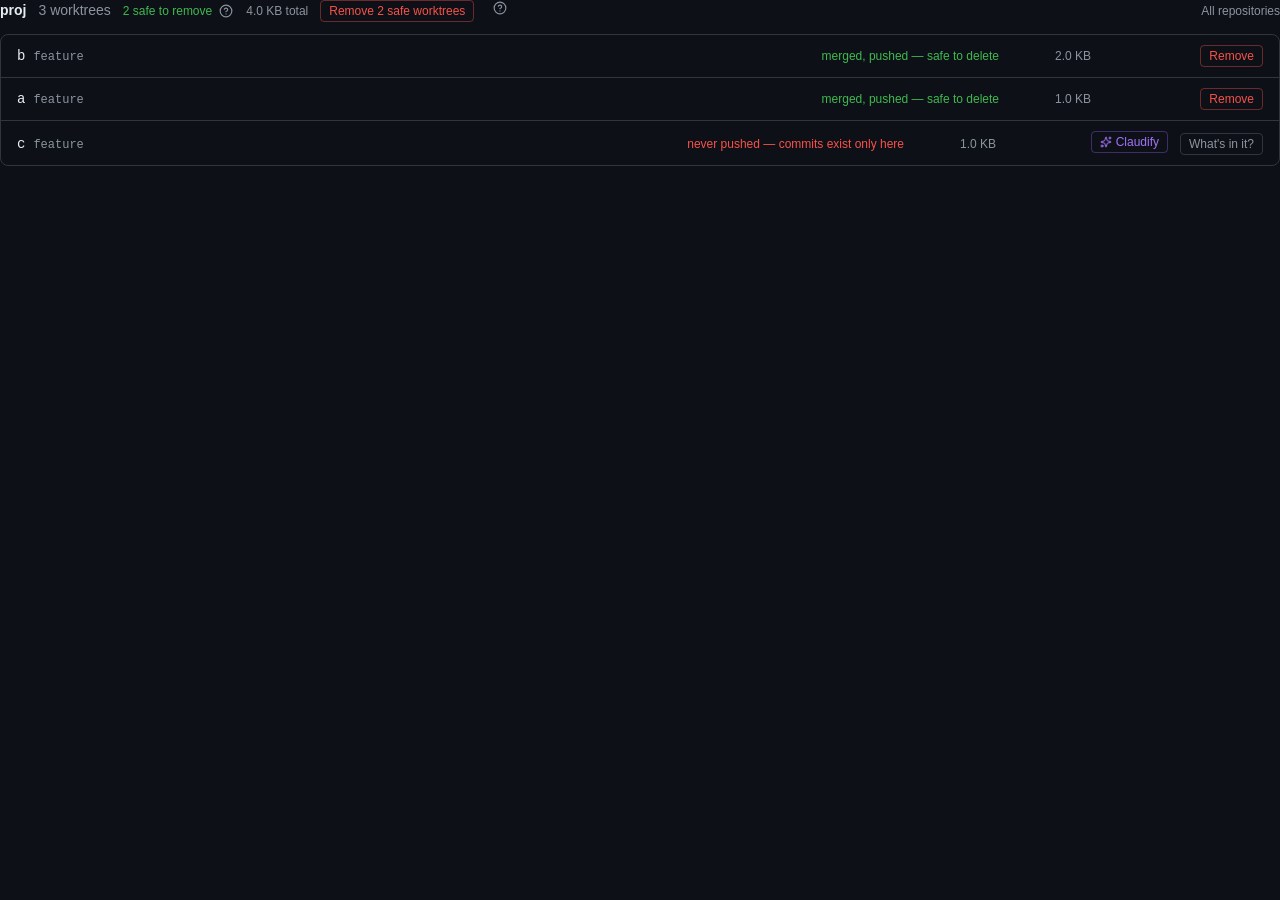
it: WorktreesPage › bulk removal › lists every path in the confirmation, not just a count
Click the button "Remove 2 safe worktrees".
click(397, 11)  # box [320,0,474,22]
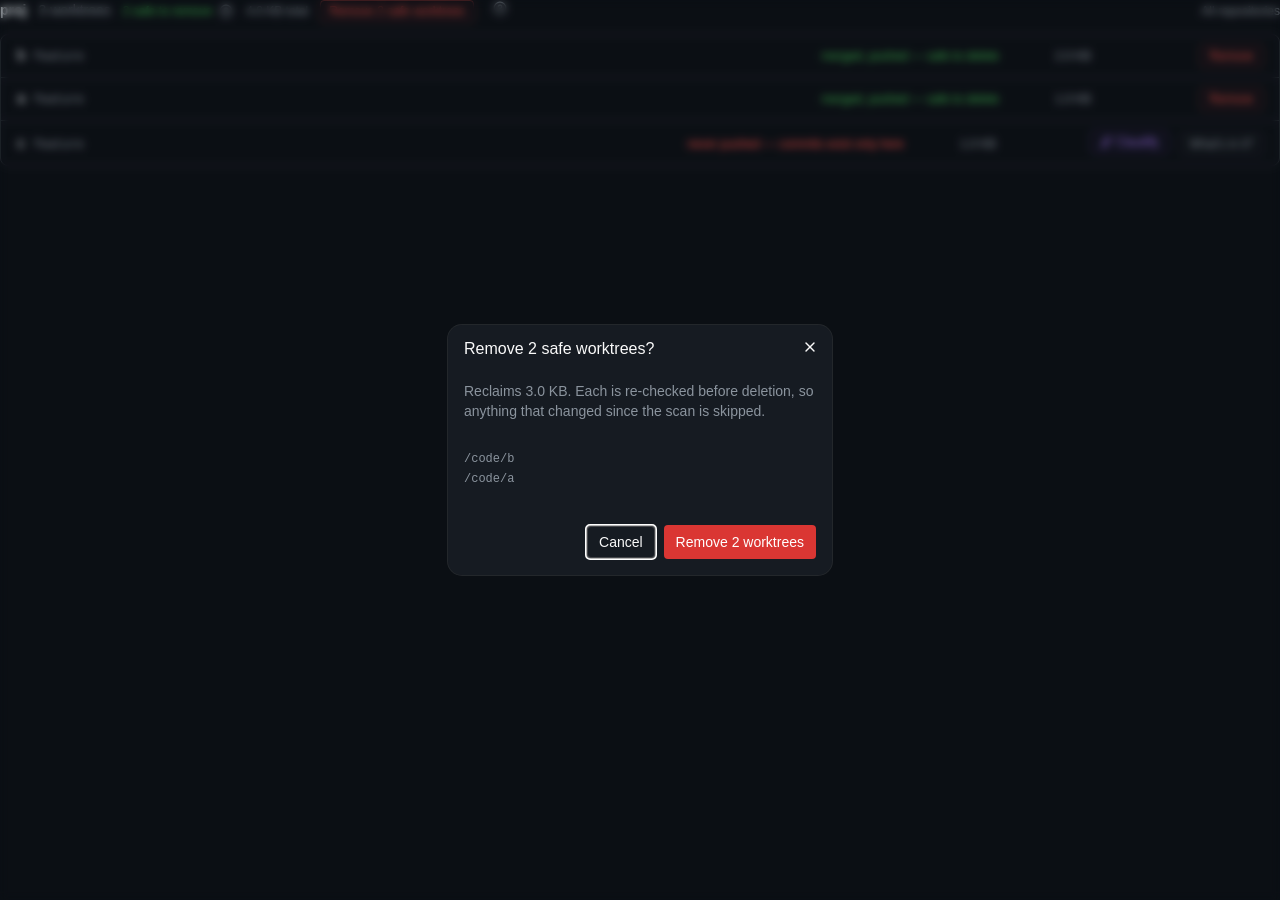
Result: the list item "/code/a" is shown at [464,472,514,486]
Result: the list item "/code/b" is shown at [464,452,514,466]
